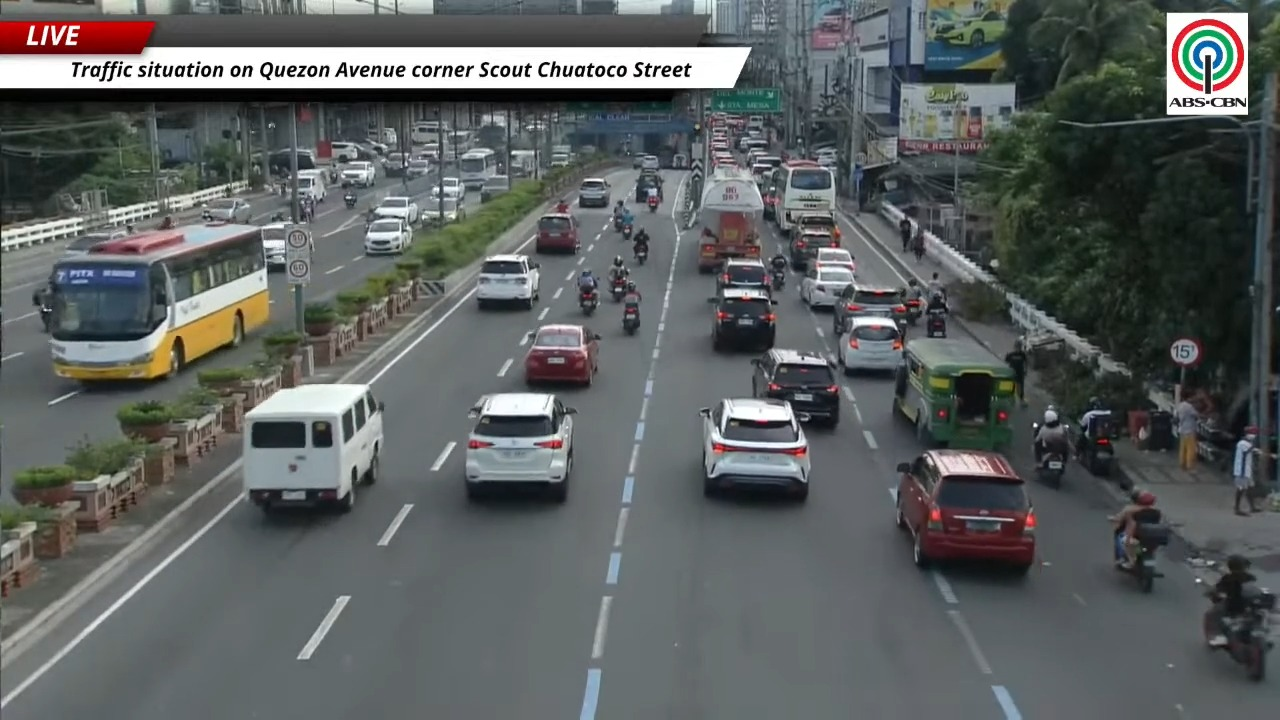bus: (50, 223, 269, 381), (771, 160, 836, 234), (458, 148, 498, 189), (410, 120, 450, 144), (447, 130, 475, 155)
car: (895, 449, 1036, 572), (465, 392, 576, 501), (699, 398, 810, 500), (752, 348, 839, 428), (524, 324, 599, 385), (708, 288, 776, 351), (832, 281, 906, 334), (836, 316, 903, 374), (476, 254, 539, 309), (930, 10, 1005, 47), (799, 267, 853, 307), (63, 227, 128, 257), (788, 231, 838, 269), (535, 213, 580, 253), (717, 258, 769, 292), (790, 212, 841, 246), (364, 218, 412, 254), (261, 223, 288, 271), (375, 196, 419, 225), (201, 198, 251, 223), (421, 197, 465, 224), (814, 248, 855, 274), (297, 170, 326, 202), (578, 178, 610, 207), (340, 161, 375, 187), (481, 175, 509, 203), (634, 174, 662, 202), (819, 7, 849, 33), (382, 152, 410, 177), (432, 177, 464, 197), (331, 141, 359, 162), (762, 187, 777, 221), (405, 159, 430, 179), (641, 154, 659, 170), (711, 138, 729, 151), (632, 154, 642, 169)
motorcycle: (1203, 583, 1276, 681), (1115, 524, 1169, 592), (1077, 419, 1114, 477), (1036, 451, 1065, 488), (32, 292, 52, 332), (926, 310, 946, 336), (904, 298, 922, 325), (622, 306, 639, 334), (579, 291, 598, 316), (39, 304, 52, 333), (611, 278, 626, 302), (771, 269, 785, 290), (634, 245, 648, 265), (344, 192, 358, 209), (647, 198, 659, 213), (622, 224, 632, 240), (613, 215, 623, 231), (270, 212, 285, 222)
truck: (697, 167, 762, 273)
